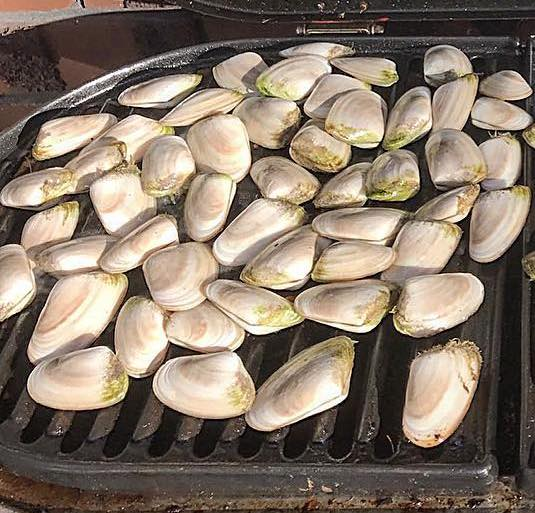tuatua: (246, 335, 356, 431), (22, 267, 129, 363), (402, 338, 482, 447), (151, 349, 255, 421), (212, 194, 312, 265), (27, 345, 128, 408), (238, 223, 324, 292), (395, 271, 489, 334), (295, 278, 393, 337), (383, 218, 465, 286), (205, 279, 306, 333), (88, 163, 161, 237), (98, 213, 179, 277), (143, 238, 220, 305), (469, 185, 535, 263), (187, 112, 251, 187), (115, 293, 170, 378), (310, 205, 412, 249), (164, 301, 246, 355), (31, 111, 119, 161), (310, 236, 399, 281), (234, 93, 301, 151), (255, 53, 332, 103), (425, 127, 489, 187), (326, 87, 387, 149), (2, 165, 79, 214), (249, 154, 322, 205), (21, 201, 79, 263), (141, 133, 196, 197), (288, 117, 351, 171), (185, 169, 233, 239), (1, 239, 38, 327), (367, 147, 423, 204), (116, 71, 200, 108), (385, 86, 433, 150), (311, 161, 375, 209), (159, 87, 243, 122), (413, 184, 481, 227), (431, 73, 477, 134), (212, 48, 271, 95), (328, 53, 402, 89), (479, 133, 525, 190), (471, 95, 533, 132), (423, 45, 475, 85), (477, 67, 535, 102)
